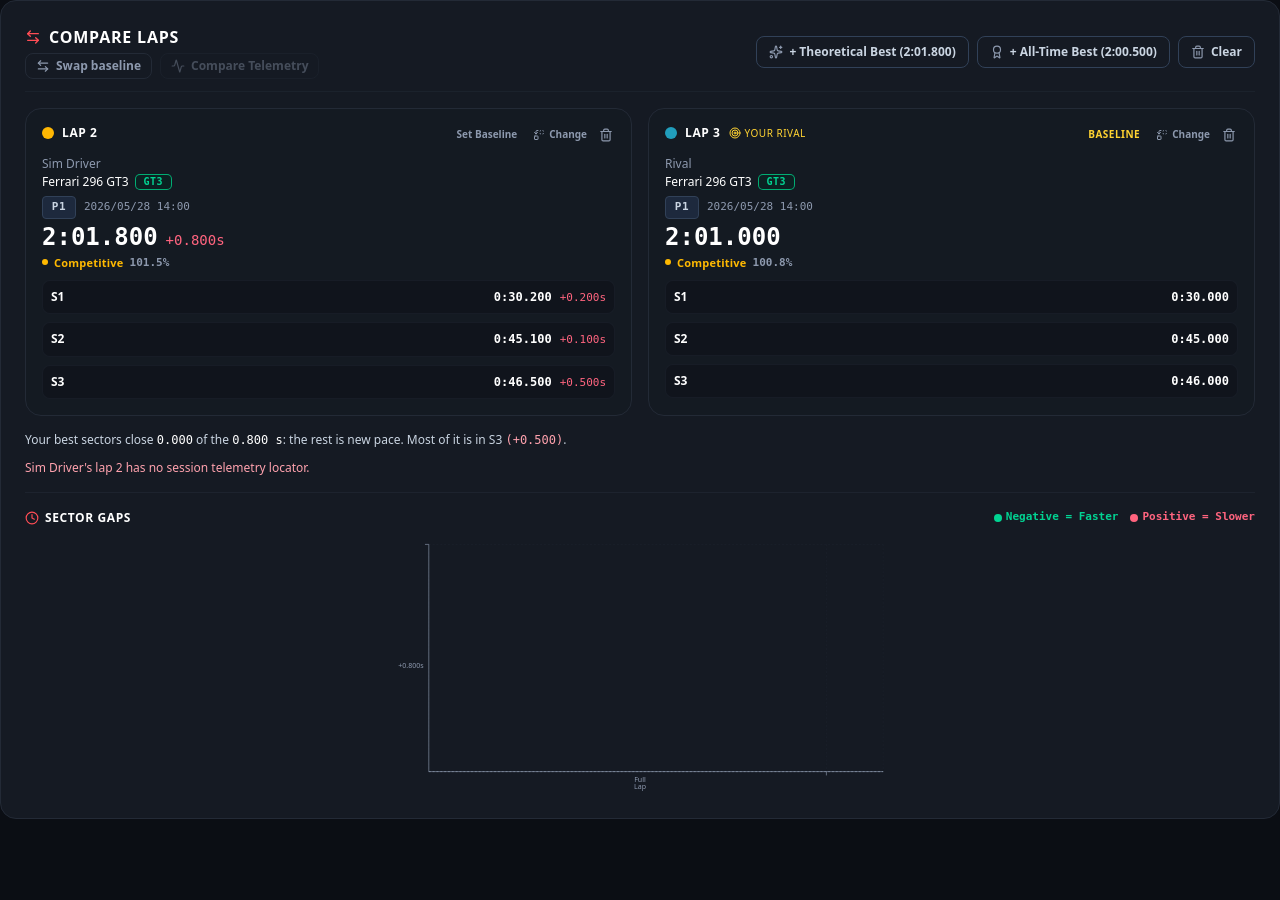
Scenario: CompareLaps component › analyses the requested pair once: putting it back after removing a lap waits for the click
This screenshot has width=1280, height=900.
Expected: the message shows "has no session telemetry locator", [25,460,310,476]
Click the button titled "Remove from comparison" in the row of "Your rival": (1229, 134) [1220,126,1238,144]
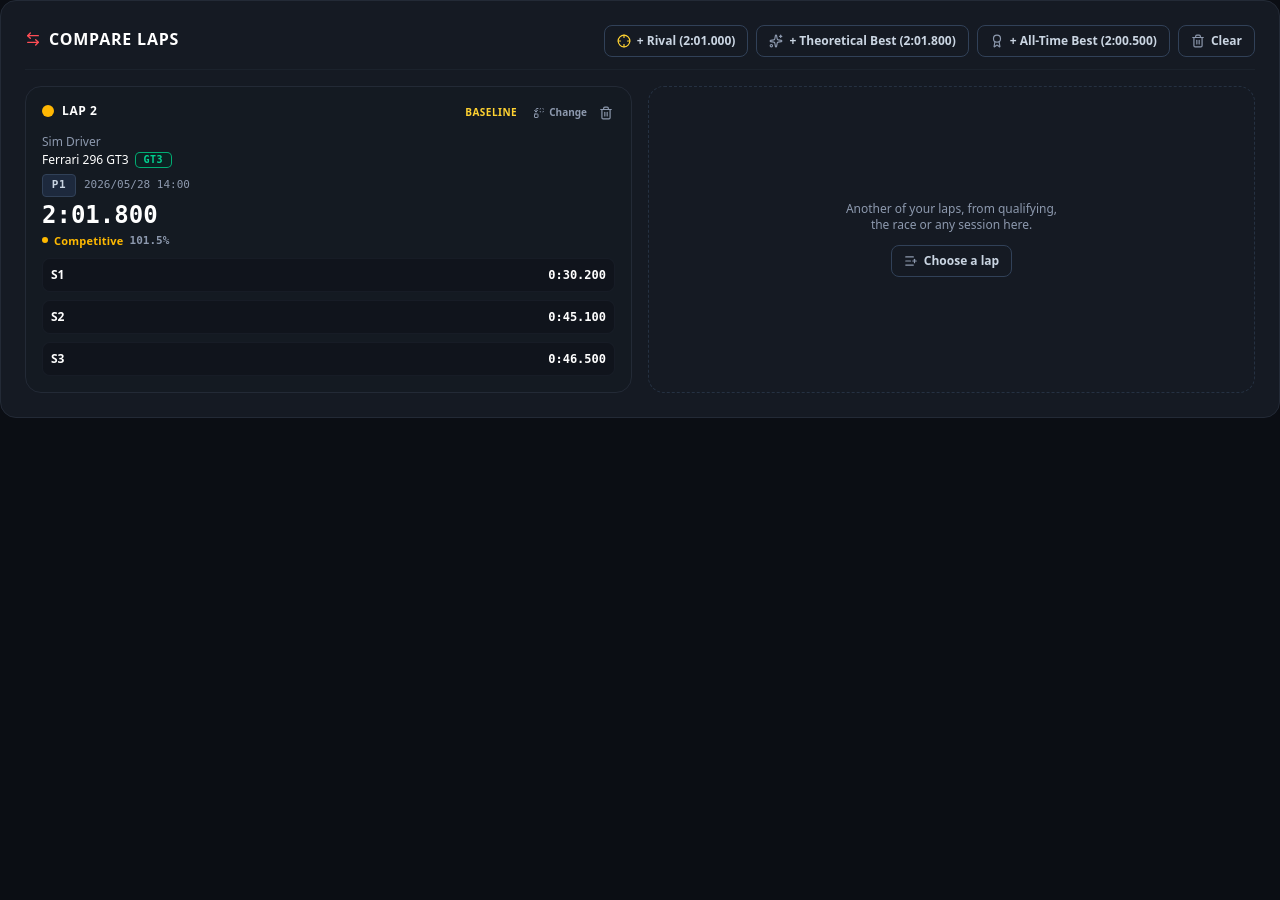
Click the button "+ Rival (2:01.000)": (676, 41) [604,25,748,57]
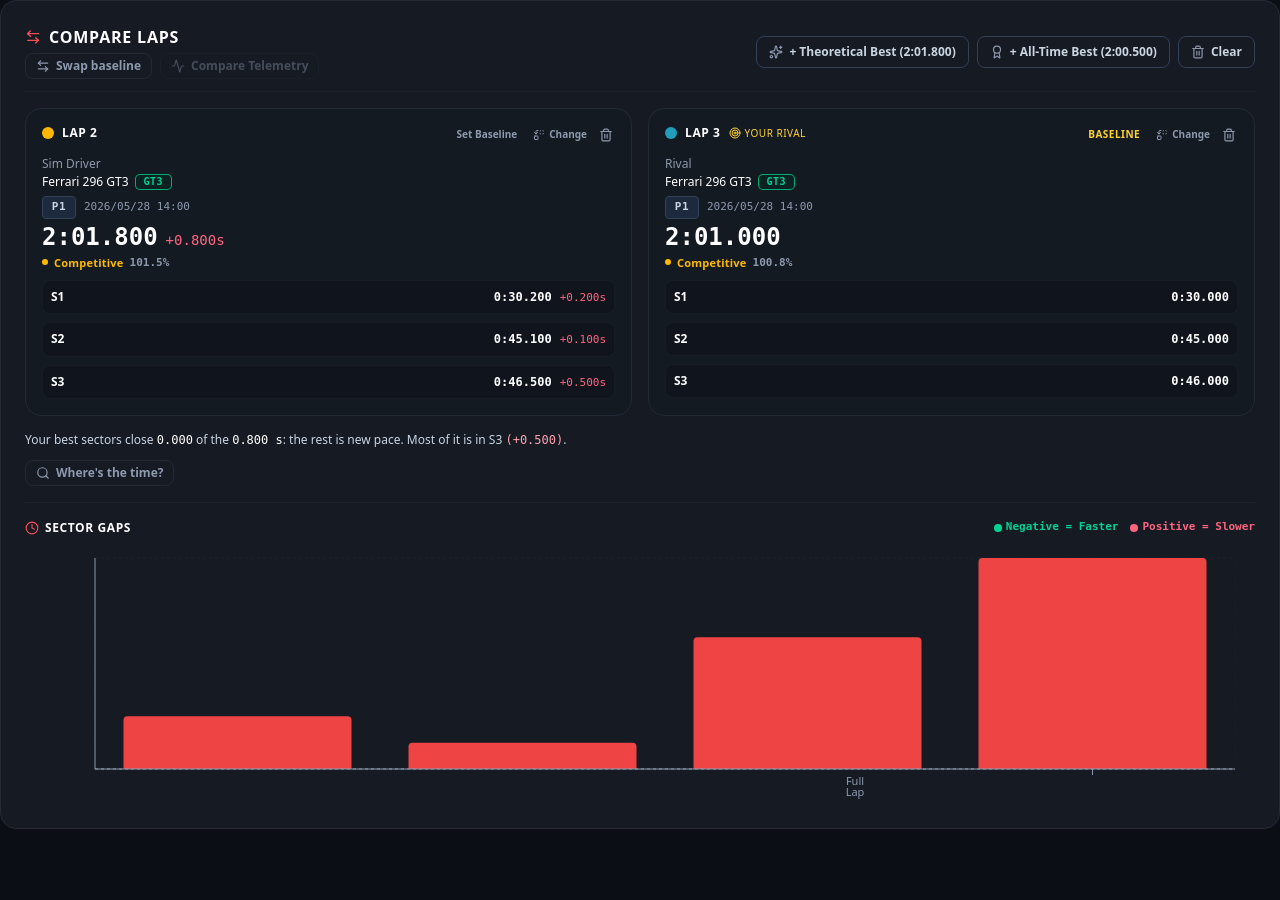
Expected: the message "Sim Driver's lap 2 has no session telemetry locator." is not shown
Now the button "Where's the time?" is shown, box [25,460,174,486]
